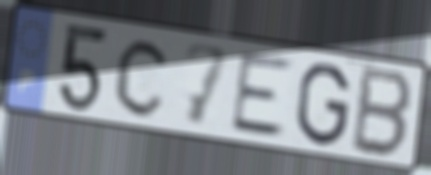5: (57, 20, 111, 114)
7: (181, 39, 230, 131)
B: (347, 62, 416, 162)
C: (112, 36, 174, 120)
E: (228, 51, 297, 141)
G: (294, 60, 353, 148)
